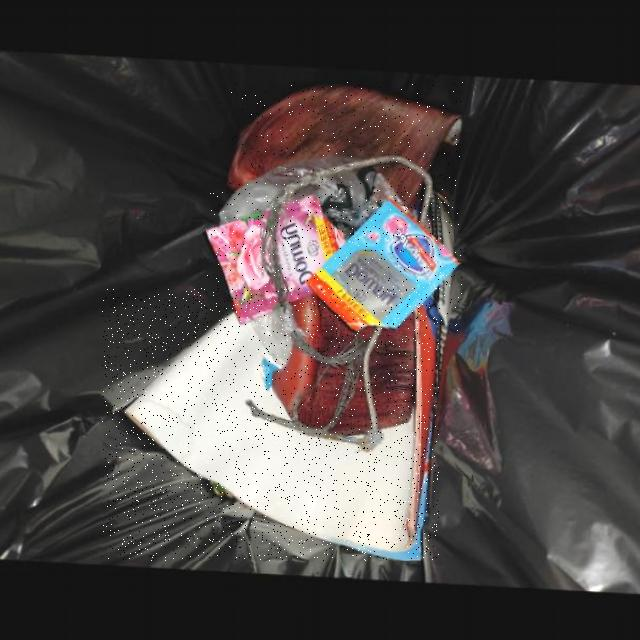biowaste: (230, 82, 464, 189), (273, 292, 418, 431), (375, 160, 425, 210)
paper: (102, 288, 439, 560)
wrapper: (325, 196, 462, 331), (208, 192, 347, 323)
